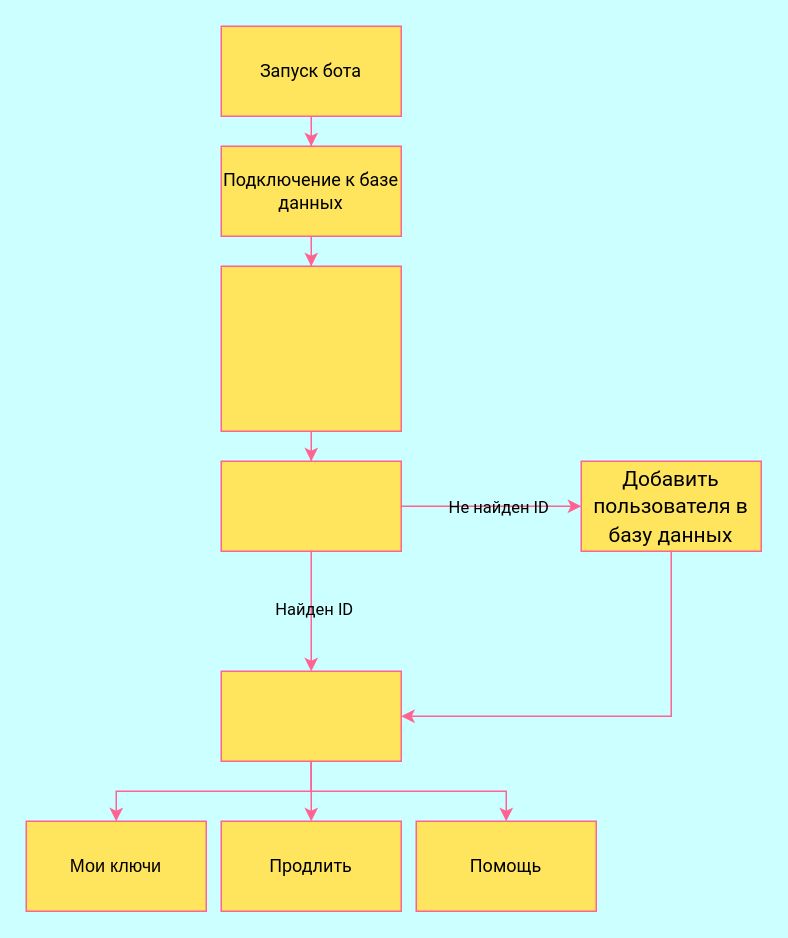
Image size: 788x938. Some labels were removed from this diagram. Here are the shapes that lost their labels. From the top down, the box of each, then its label:
(220, 265, 401, 431): Получение данных о пользователе из телеграмм (имя, ID)
(220, 460, 401, 551): Поиск ID пользователя в базе
(220, 670, 401, 761): Вывести меню
